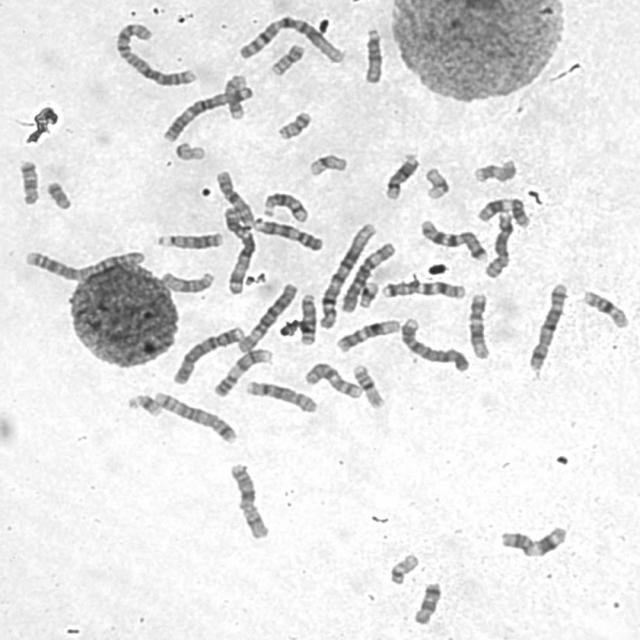A1: (315, 218, 377, 332), (236, 12, 346, 65)
A2: (111, 19, 200, 88), (20, 243, 148, 282)
A3: (158, 83, 253, 144), (219, 204, 257, 296)
B4: (169, 322, 246, 386), (397, 314, 472, 374)
B5: (150, 387, 239, 445), (524, 278, 570, 372)
C10: (212, 167, 256, 230), (301, 359, 364, 400)
C11: (496, 522, 568, 560), (473, 193, 532, 229)
C12: (332, 316, 402, 354), (464, 290, 493, 361)
C6: (233, 280, 300, 354), (336, 238, 396, 314)
C7: (416, 215, 490, 262), (378, 276, 467, 301)
C8: (241, 376, 319, 414), (481, 208, 514, 280)
C9: (210, 344, 274, 399), (250, 215, 325, 253)
D13: (153, 228, 225, 251), (296, 290, 319, 346)
D14: (381, 150, 421, 201), (259, 188, 310, 224)
D15: (157, 266, 216, 294), (359, 23, 385, 85)
E16: (578, 286, 630, 330), (349, 361, 387, 409)
E17: (470, 154, 518, 184), (219, 72, 248, 120)
E18: (409, 578, 443, 626), (15, 156, 41, 206)
F19: (304, 150, 350, 178), (420, 164, 452, 202)
F20: (266, 40, 308, 76), (274, 107, 313, 141)
G21: (124, 390, 164, 419), (356, 276, 381, 310)
G22: (385, 550, 420, 586), (170, 138, 208, 163)
X: (225, 460, 272, 540)
Y: (42, 178, 73, 210)
